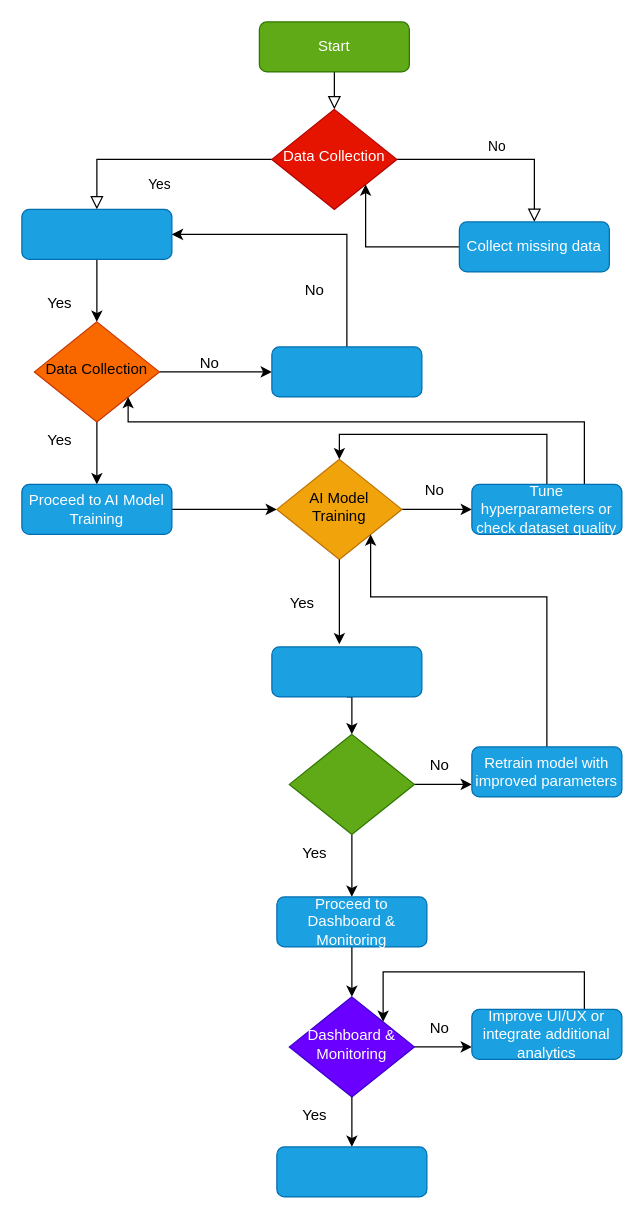
Some shapes in this 644 by 1220 pixel diagram are drawn without their labels. The shapes that lost their labels are listed below. From the top down, each one's centre as x and y in pixels, then its label:
pixel 96 233: Proceed to Data Preprocessing
pixel 346 371: Apply data preprocessing steps again
pixel 346 671: Proceed to Prediction & Optimization
pixel 351 783: Prediction & Optimization
pixel 351 1171: Maintain & optimize for better performance
